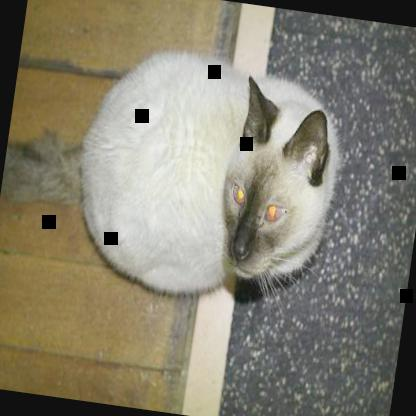cat: (0, 29, 354, 320)
